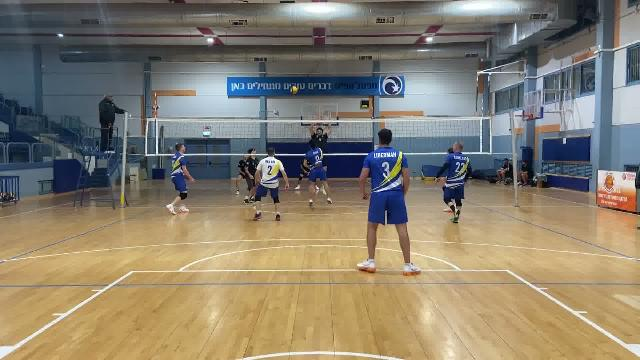ball: (288, 85, 298, 94)
